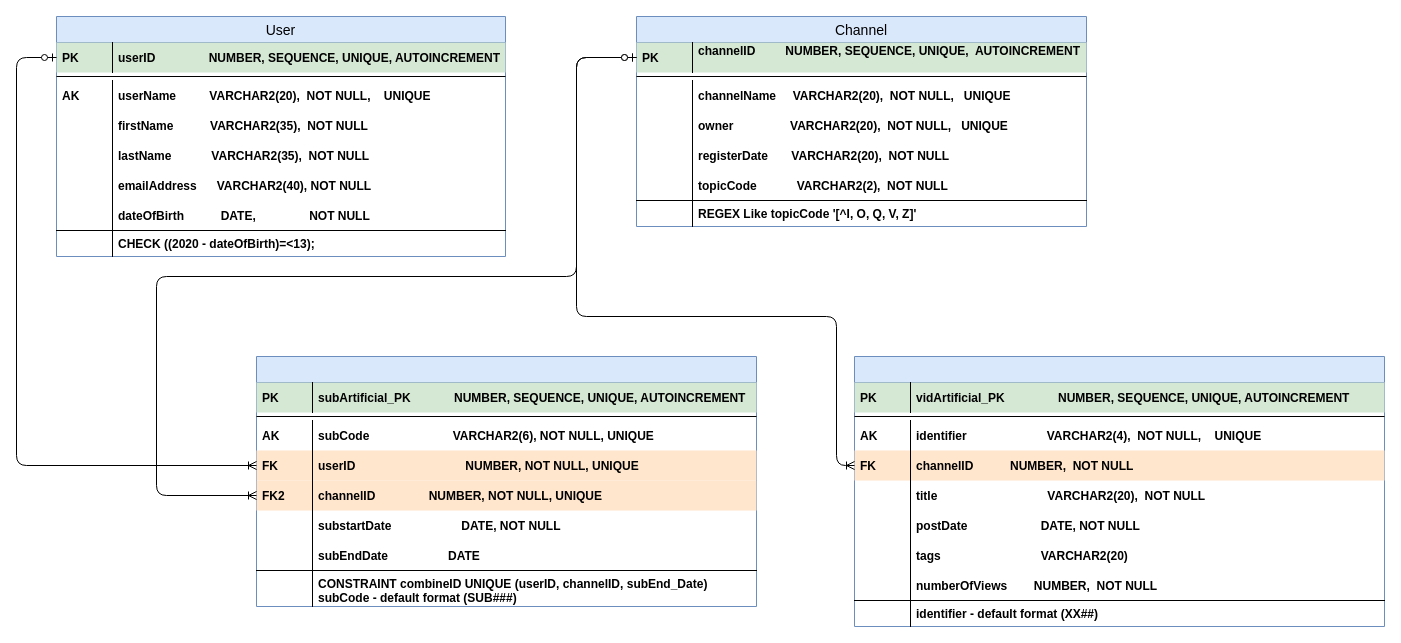
Image size: 1401x643. Some labels were removed from this diagram. Each missing label, with the box of its shape:
Subscription: (256, 356, 756, 606)
Video: (854, 356, 1384, 626)
